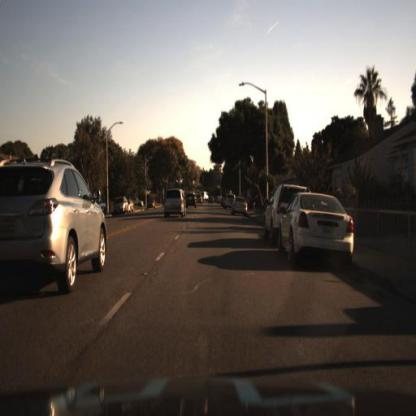car: (2, 162, 107, 295), (276, 193, 357, 265), (261, 178, 315, 247), (163, 187, 187, 219), (231, 195, 250, 220), (113, 195, 128, 217), (183, 192, 198, 212), (146, 196, 158, 214), (129, 196, 138, 214), (207, 197, 216, 206)
